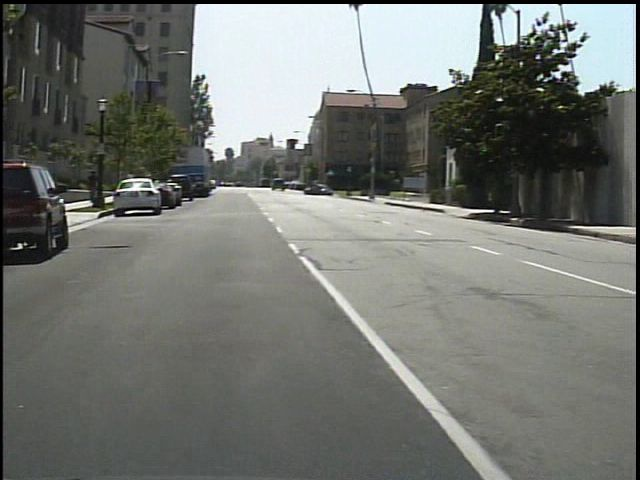person: (80, 167, 95, 207)
